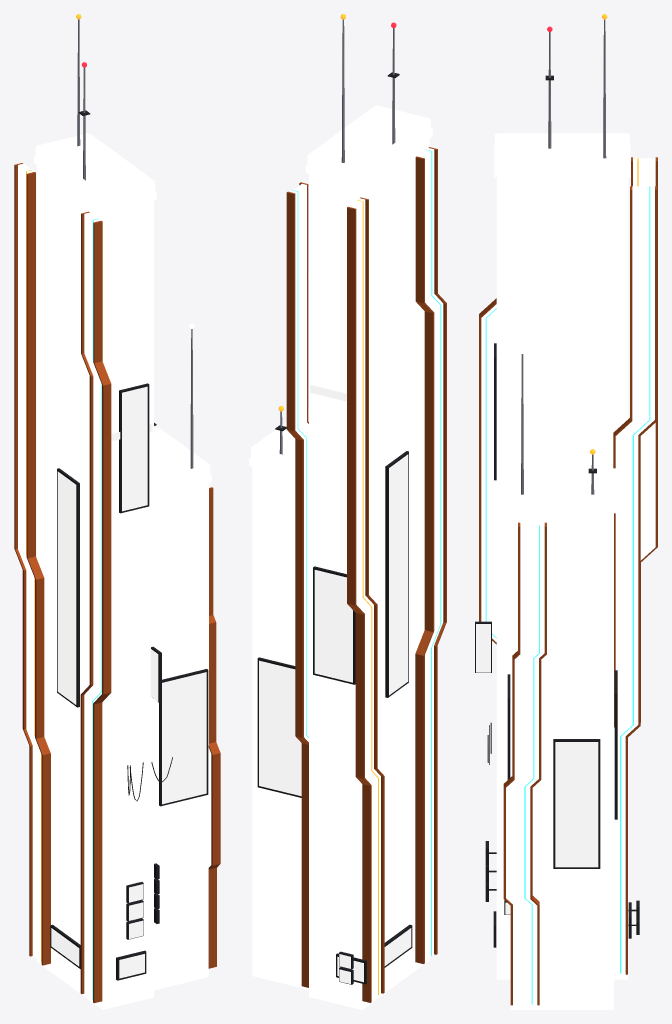
Rendered from k_tower_h.glb.
3 renders of one model, left to right at view 1: azimuth 30°, elevation 25°; view 2: azimuth 150°, elevation 25°; view 3: azimuth 270°, elevation 25°, orthographic. The views are drawn at different scales.
Parts seen in each view (by area): view 1: kit_dark, steel_orange, kit_grey, screen_atlas, metal_dark, metal_light, neon_cyan, kit_mid, neon_amber; view 2: kit_dark, steel_orange, kit_grey, screen_atlas, metal_dark, neon_cyan, neon_amber, kit_mid, metal_light; view 3: kit_dark, kit_grey, steel_orange, screen_atlas, metal_dark, neon_cyan, kit_hex, metal_light, kit_mid.
Part boxes in pixels (box(x1,y1,x2,y2)): kit_dark: box(37, 165, 208, 1009); steel_orange: box(14, 163, 220, 1003); kit_grey: box(18, 133, 211, 998); screen_atlas: box(51, 386, 206, 978); metal_dark: box(50, 110, 208, 980); metal_light: box(77, 19, 193, 468); neon_cyan: box(92, 218, 101, 999); kit_mid: box(66, 143, 154, 462); neon_amber: box(26, 14, 81, 962); kit_dark: box(252, 138, 429, 1009); steel_orange: box(286, 147, 446, 1002); kit_grey: box(249, 105, 443, 999); screen_atlas: box(259, 385, 411, 984); metal_dark: box(257, 72, 412, 984); neon_cyan: box(292, 149, 441, 956); neon_amber: box(278, 14, 378, 995); kit_mid: box(293, 134, 375, 456); metal_light: box(279, 19, 395, 454); kit_dark: box(496, 177, 628, 1009); kit_grey: box(481, 133, 655, 1004); steel_orange: box(479, 157, 657, 1005); screen_atlas: box(476, 624, 598, 914); metal_dark: box(475, 75, 639, 947); neon_cyan: box(485, 186, 650, 1004); kit_hex: box(533, 433, 565, 477); metal_light: box(521, 19, 606, 494); kit_mid: box(561, 138, 601, 491).
Bounding box in the file's own units: 16 × 112 × 19.43.
